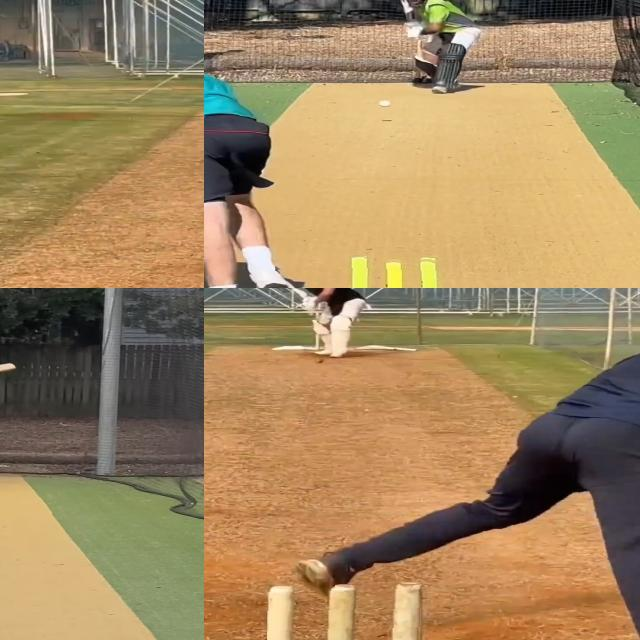Cricket ball: (375, 99, 395, 109)
Stumps: (266, 582, 422, 640)
